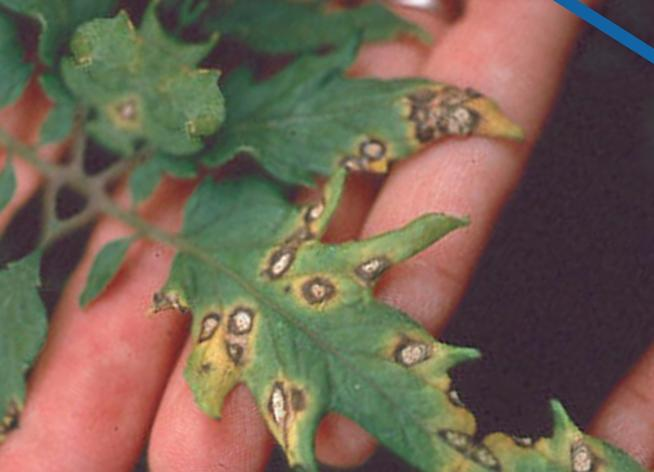Tomato Septoria leaf spot: (86, 115, 561, 472), (185, 0, 541, 287), (0, 186, 166, 442)
